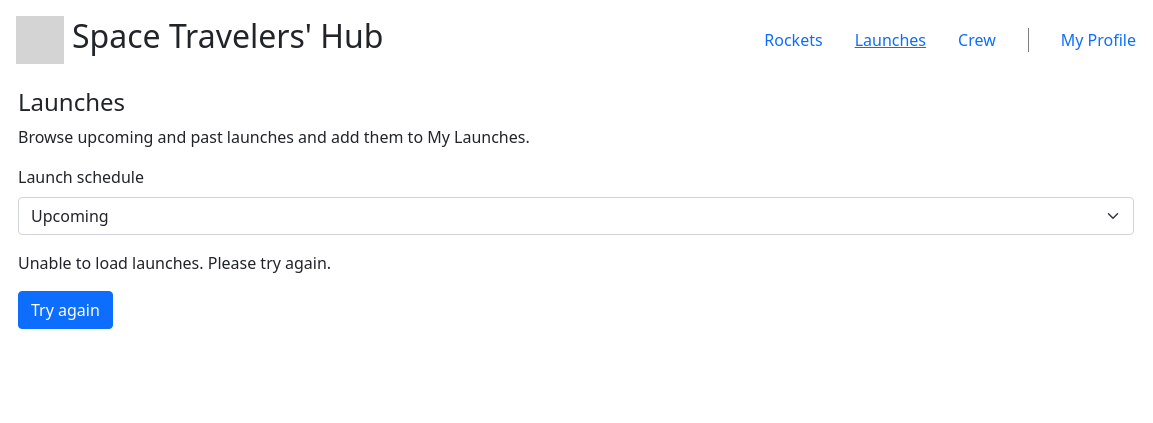
Test: shows a retryable error on /launches and recovers
Check: the message shows "Unable to load launches", box [18, 252, 331, 274]
What coordinates should you click on to do the following:
click the button "Try again"
I would click on:
 (65, 310)
Its box is [18, 291, 113, 329].
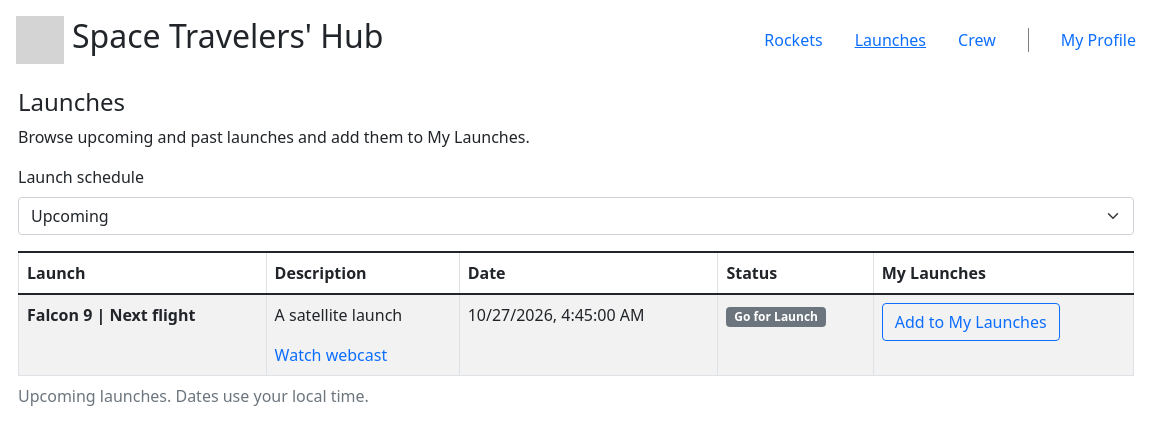
Check: the message "Unable to load launches. Please try again. Try again" is gone
Check: the column heading "Falcon 9 | Next flight" is shown, box [18, 294, 266, 375]
